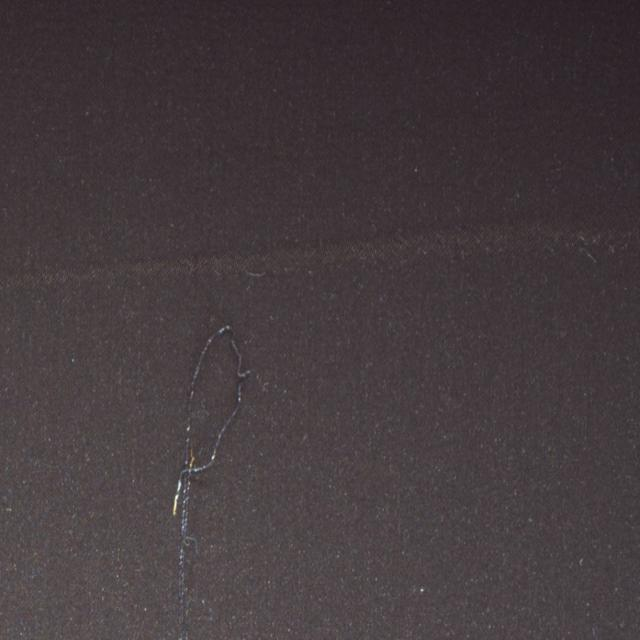Thread: (169, 318, 256, 519)
